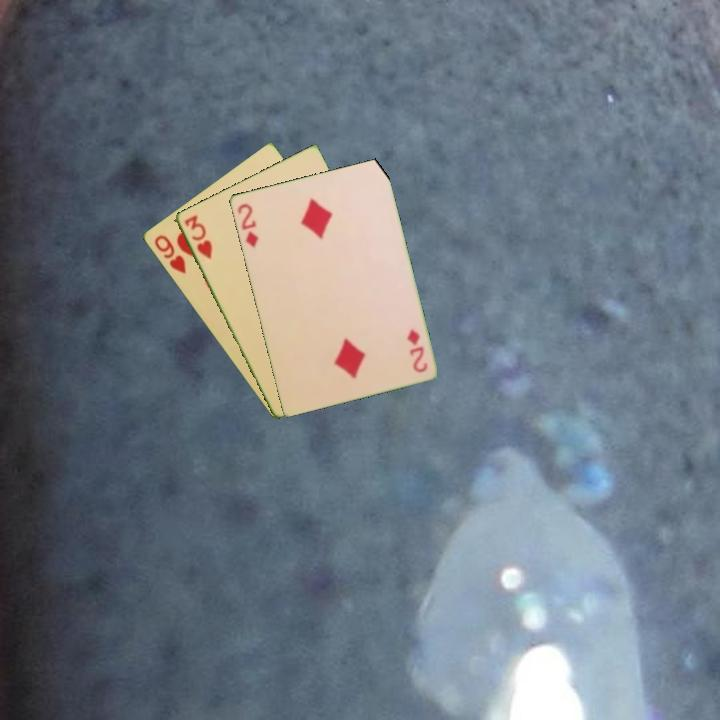2d: (233, 200, 261, 250), (403, 325, 430, 375)
3h: (180, 211, 215, 262)
9h: (150, 231, 189, 277)
